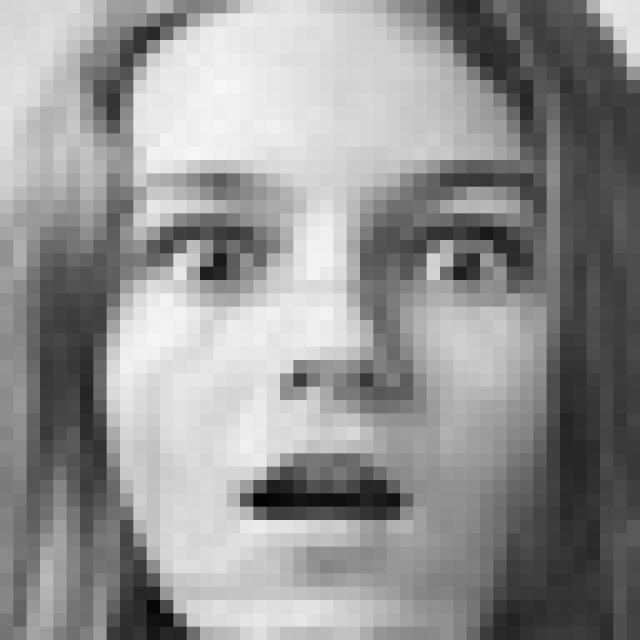surprise: (116, 153, 548, 574)
